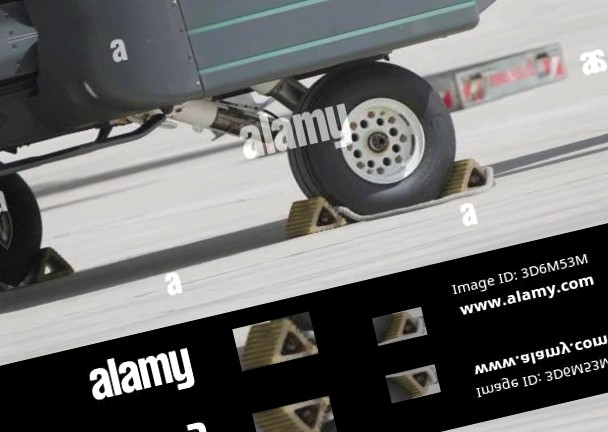chock: (232, 311, 319, 371), (430, 152, 499, 203), (278, 191, 347, 239), (252, 397, 339, 432), (12, 241, 76, 287), (372, 307, 428, 346), (386, 365, 441, 404)
wheel: (271, 45, 467, 228), (0, 163, 56, 284)
